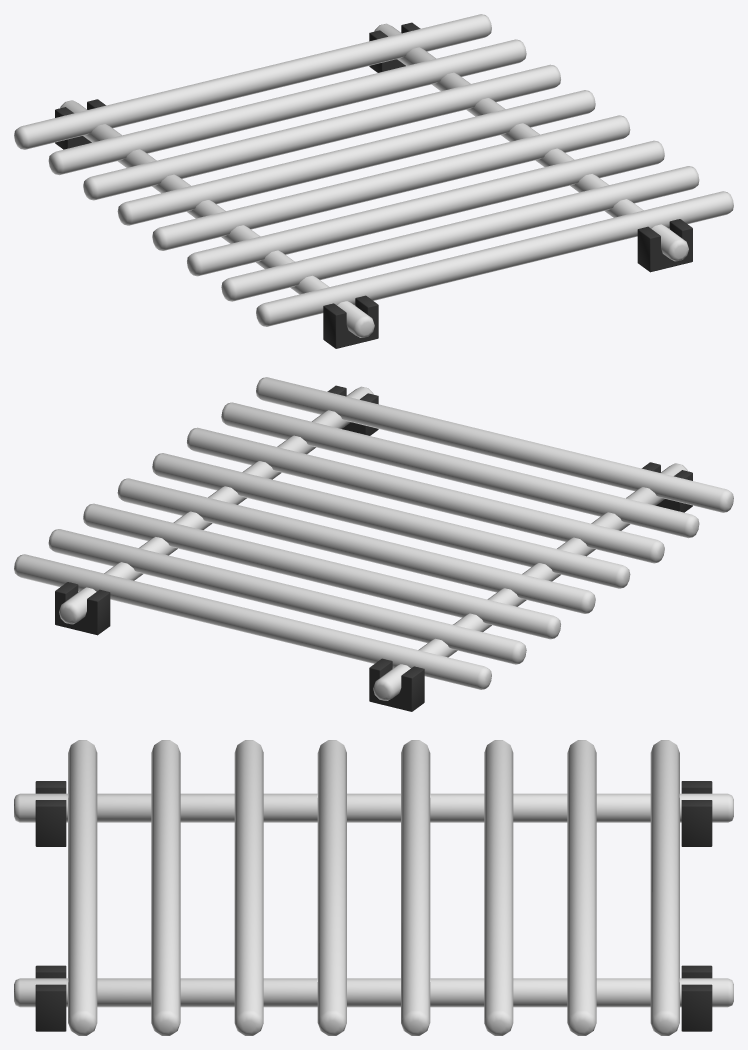
Rendered from Tatakan Panci.fbx.
3 renders of one model, top to bottom at view 1: azimuth 30°, elevation 25°; view 2: azimuth 150°, elevation 25°; view 3: azimuth 270°, elevation 25°, orthographic. The views are drawn at different scales.
Visible parts, largest first — view 1: Tatakan Panci; view 2: Tatakan Panci; view 3: Tatakan Panci.
Part boxes in pixels (bbox=[...]): Tatakan Panci: bbox=[14, 14, 733, 348]; Tatakan Panci: bbox=[14, 377, 733, 711]; Tatakan Panci: bbox=[14, 740, 733, 1035].
Bounding box in the file's own units: 44.94 × 3.9 × 49.4.
Materials: 1 (1 with a texture image).
